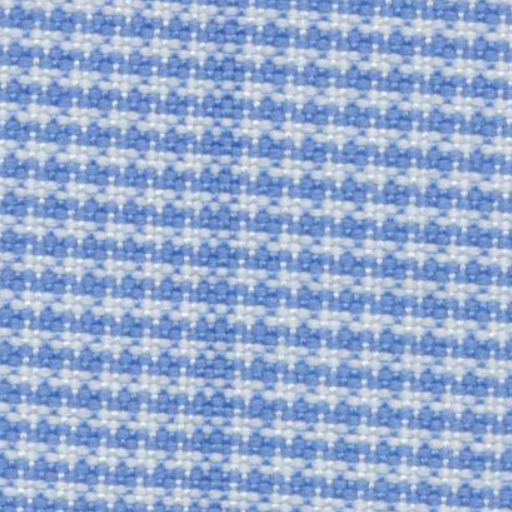TuoSha: (172, 13, 260, 501)
